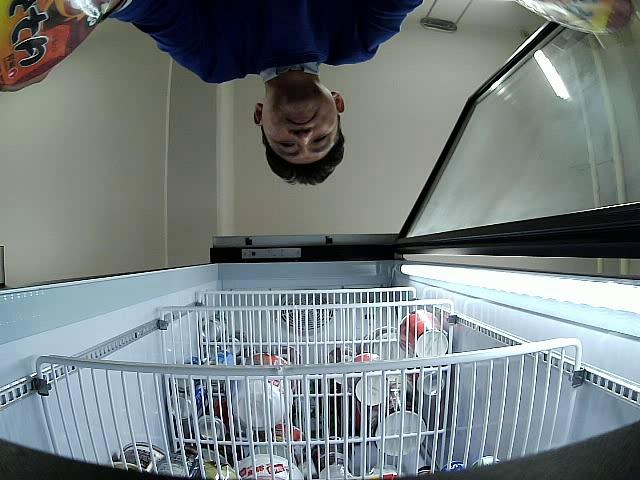05_nuguri_L: (0, 0, 126, 92), (516, 0, 634, 34)
